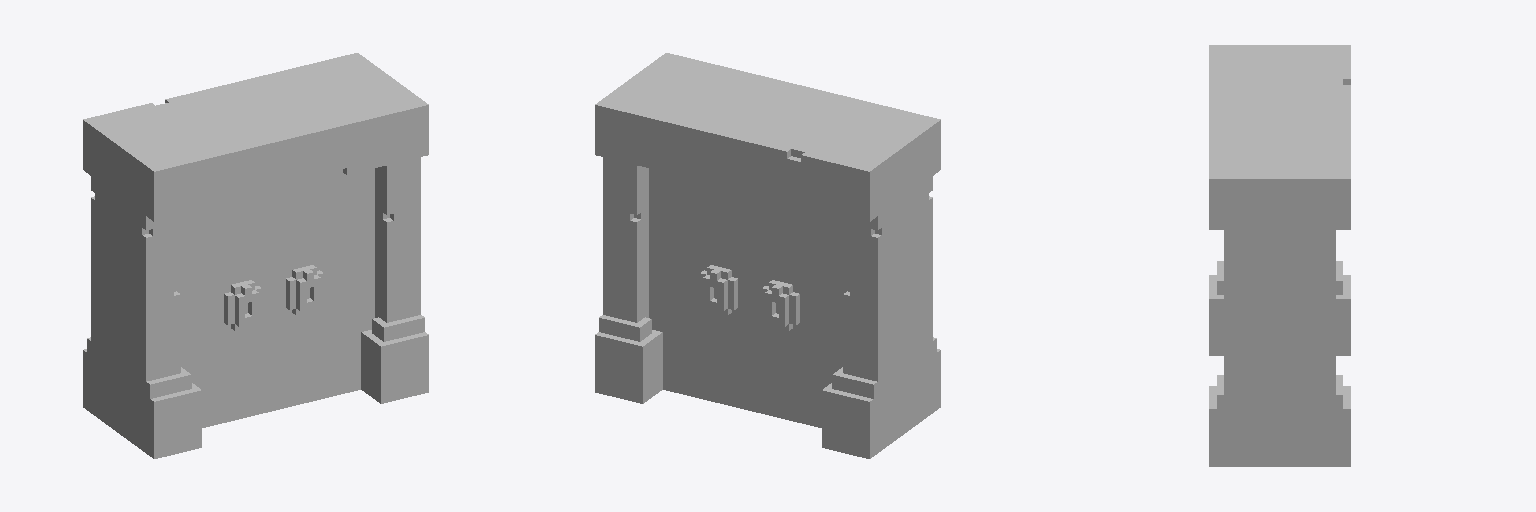
File: Tunnel door.obj
The picture shows the model from 3 angles: view 1: azimuth 30°, elevation 25°; view 2: azimuth 150°, elevation 25°; view 3: azimuth 270°, elevation 25°; orthographic projection.
Parts seen in each view (by area): view 1: object 1; view 2: object 1; view 3: object 1.
Part boxes in pixels (left/top/right/bottom): object 1: left=83, top=53, right=428, bottom=458; object 1: left=595, top=53, right=940, bottom=458; object 1: left=1209, top=45, right=1350, bottom=466.
Bounding box in the file's own units: 4 × 4 × 1.8.